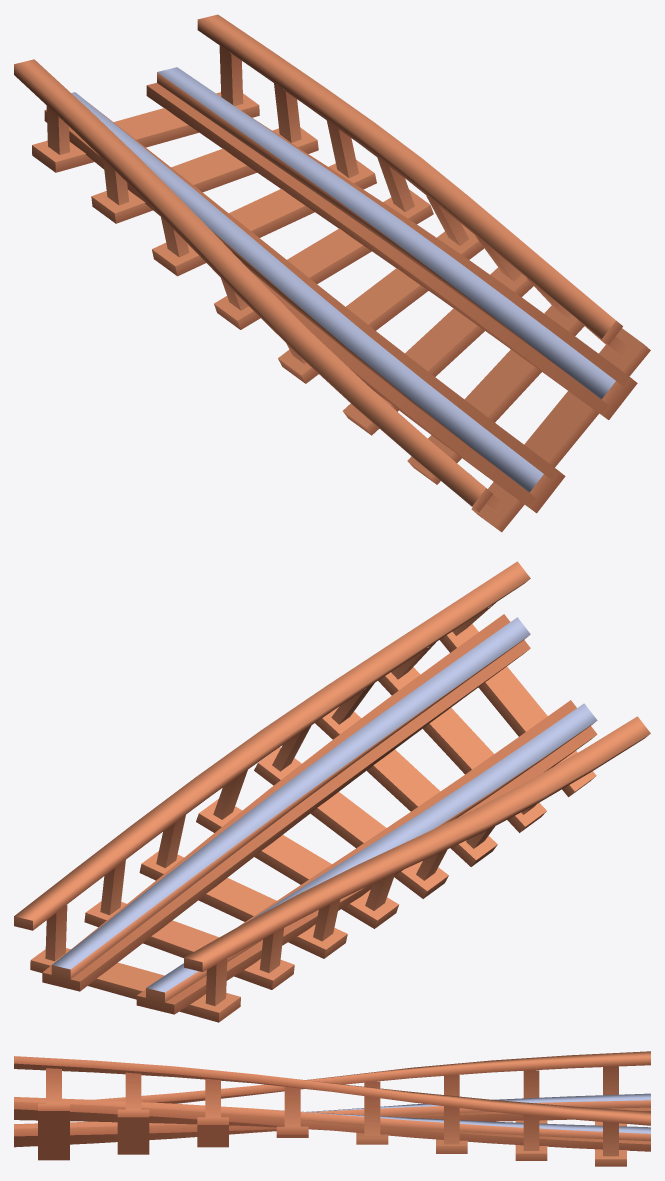
Rendered from kenney-coaster-coaster-wood-straight-skew-right.glb.
3 views of the same model, one above another, from view 1: azimuth 30°, elevation 25°; view 2: azimuth 150°, elevation 25°; view 3: azimuth 270°, elevation 25° (orthographic). The views are drawn at different scales.
Visible parts, largest first — view 1: coaster-wood-straight-skew-right; view 2: coaster-wood-straight-skew-right; view 3: coaster-wood-straight-skew-right.
Part boxes in pixels (x1,y1,x2,y2): coaster-wood-straight-skew-right: (14, 14, 650, 532); coaster-wood-straight-skew-right: (14, 561, 650, 1022); coaster-wood-straight-skew-right: (14, 1051, 650, 1166).
Bounding box in the file's own units: 1.09 × 0.9434 × 4.
1 material, 1 textured.
